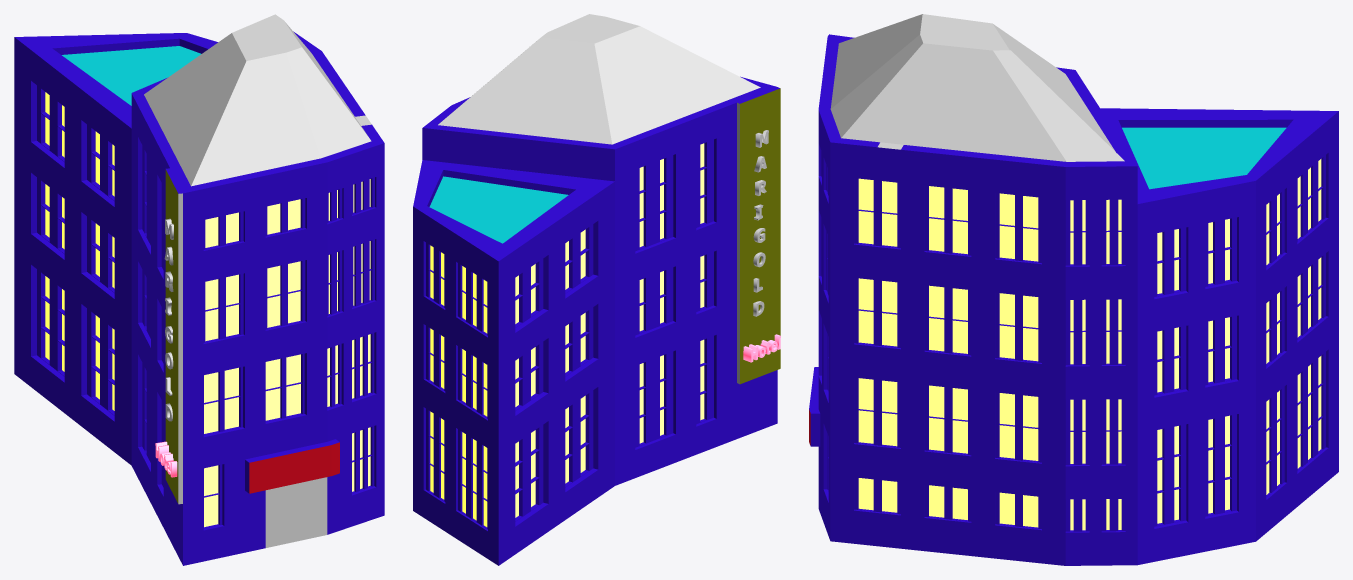
The model's file is marigold_hotel_waterfront.fbx.
3 views of the same model, side by side, from view 1: azimuth 30°, elevation 25°; view 2: azimuth 150°, elevation 25°; view 3: azimuth 270°, elevation 25° (orthographic). The views are drawn at different scales.
Parts seen in each view (by area): view 1: Plane, Text, Text.001; view 2: Plane, Text, Text.001; view 3: Plane.
Boxes of the visible parts, box(x1,y1,x2,y2) form: Plane: box(14, 14, 384, 565); Text: box(164, 218, 173, 421); Text.001: box(155, 441, 177, 477); Plane: box(413, 14, 780, 565); Text: box(753, 130, 768, 316); Text.001: box(743, 334, 780, 362); Plane: box(809, 14, 1338, 565).
Size of the model in its own units: 152 by 251 by 253.
